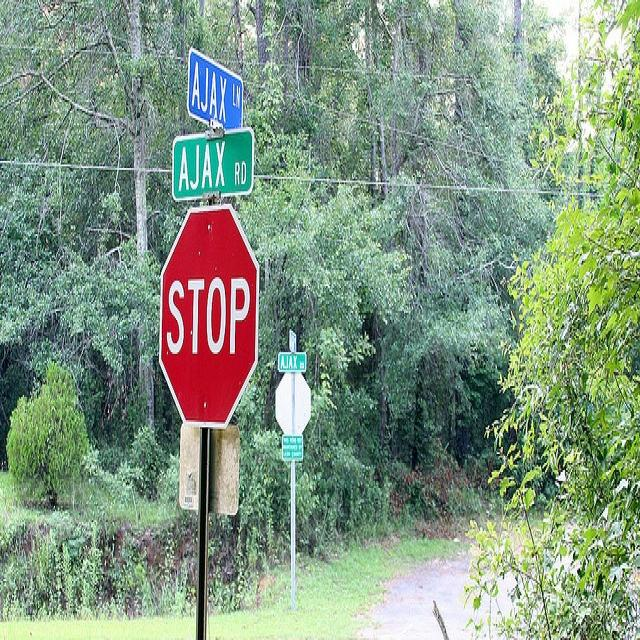pole: (192, 426, 212, 638), (286, 361, 300, 606)
